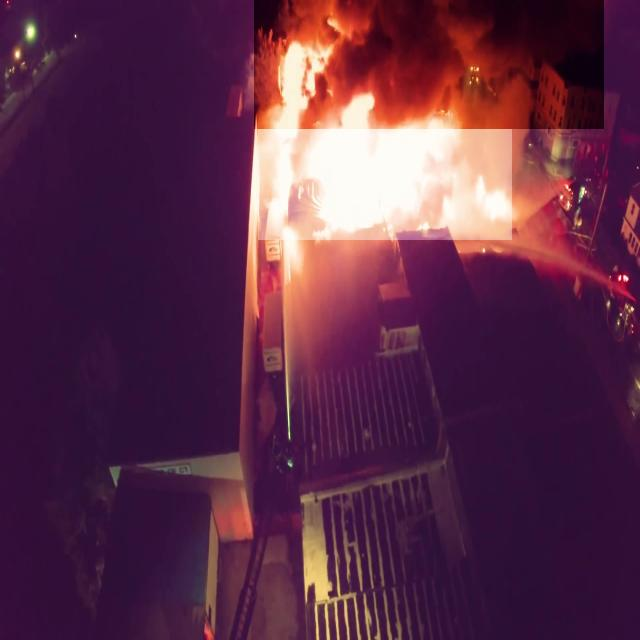Fire: (258, 45, 512, 240)
Smoke: (254, 0, 604, 129)
